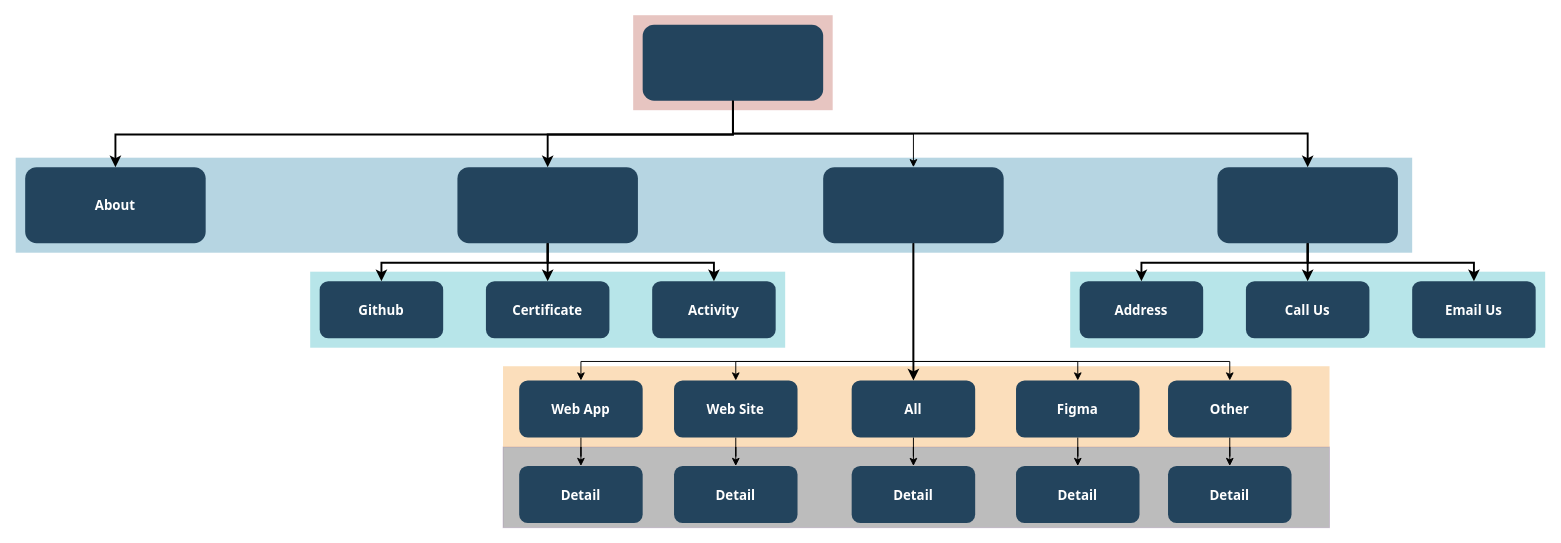
The diagram is 1561 pixels wide and 543 high, and some of its shapes have lost their labels. Each missing label, with the centre of its shape:
"Contact" belongs at pixel 1307 205.
"Home page" belongs at pixel 732 62.
"Portfolio" belongs at pixel 913 205.
"Resume" belongs at pixel 547 205.
